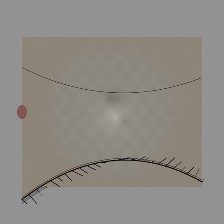pinguecula_lesion: (34, 93, 84, 132)
